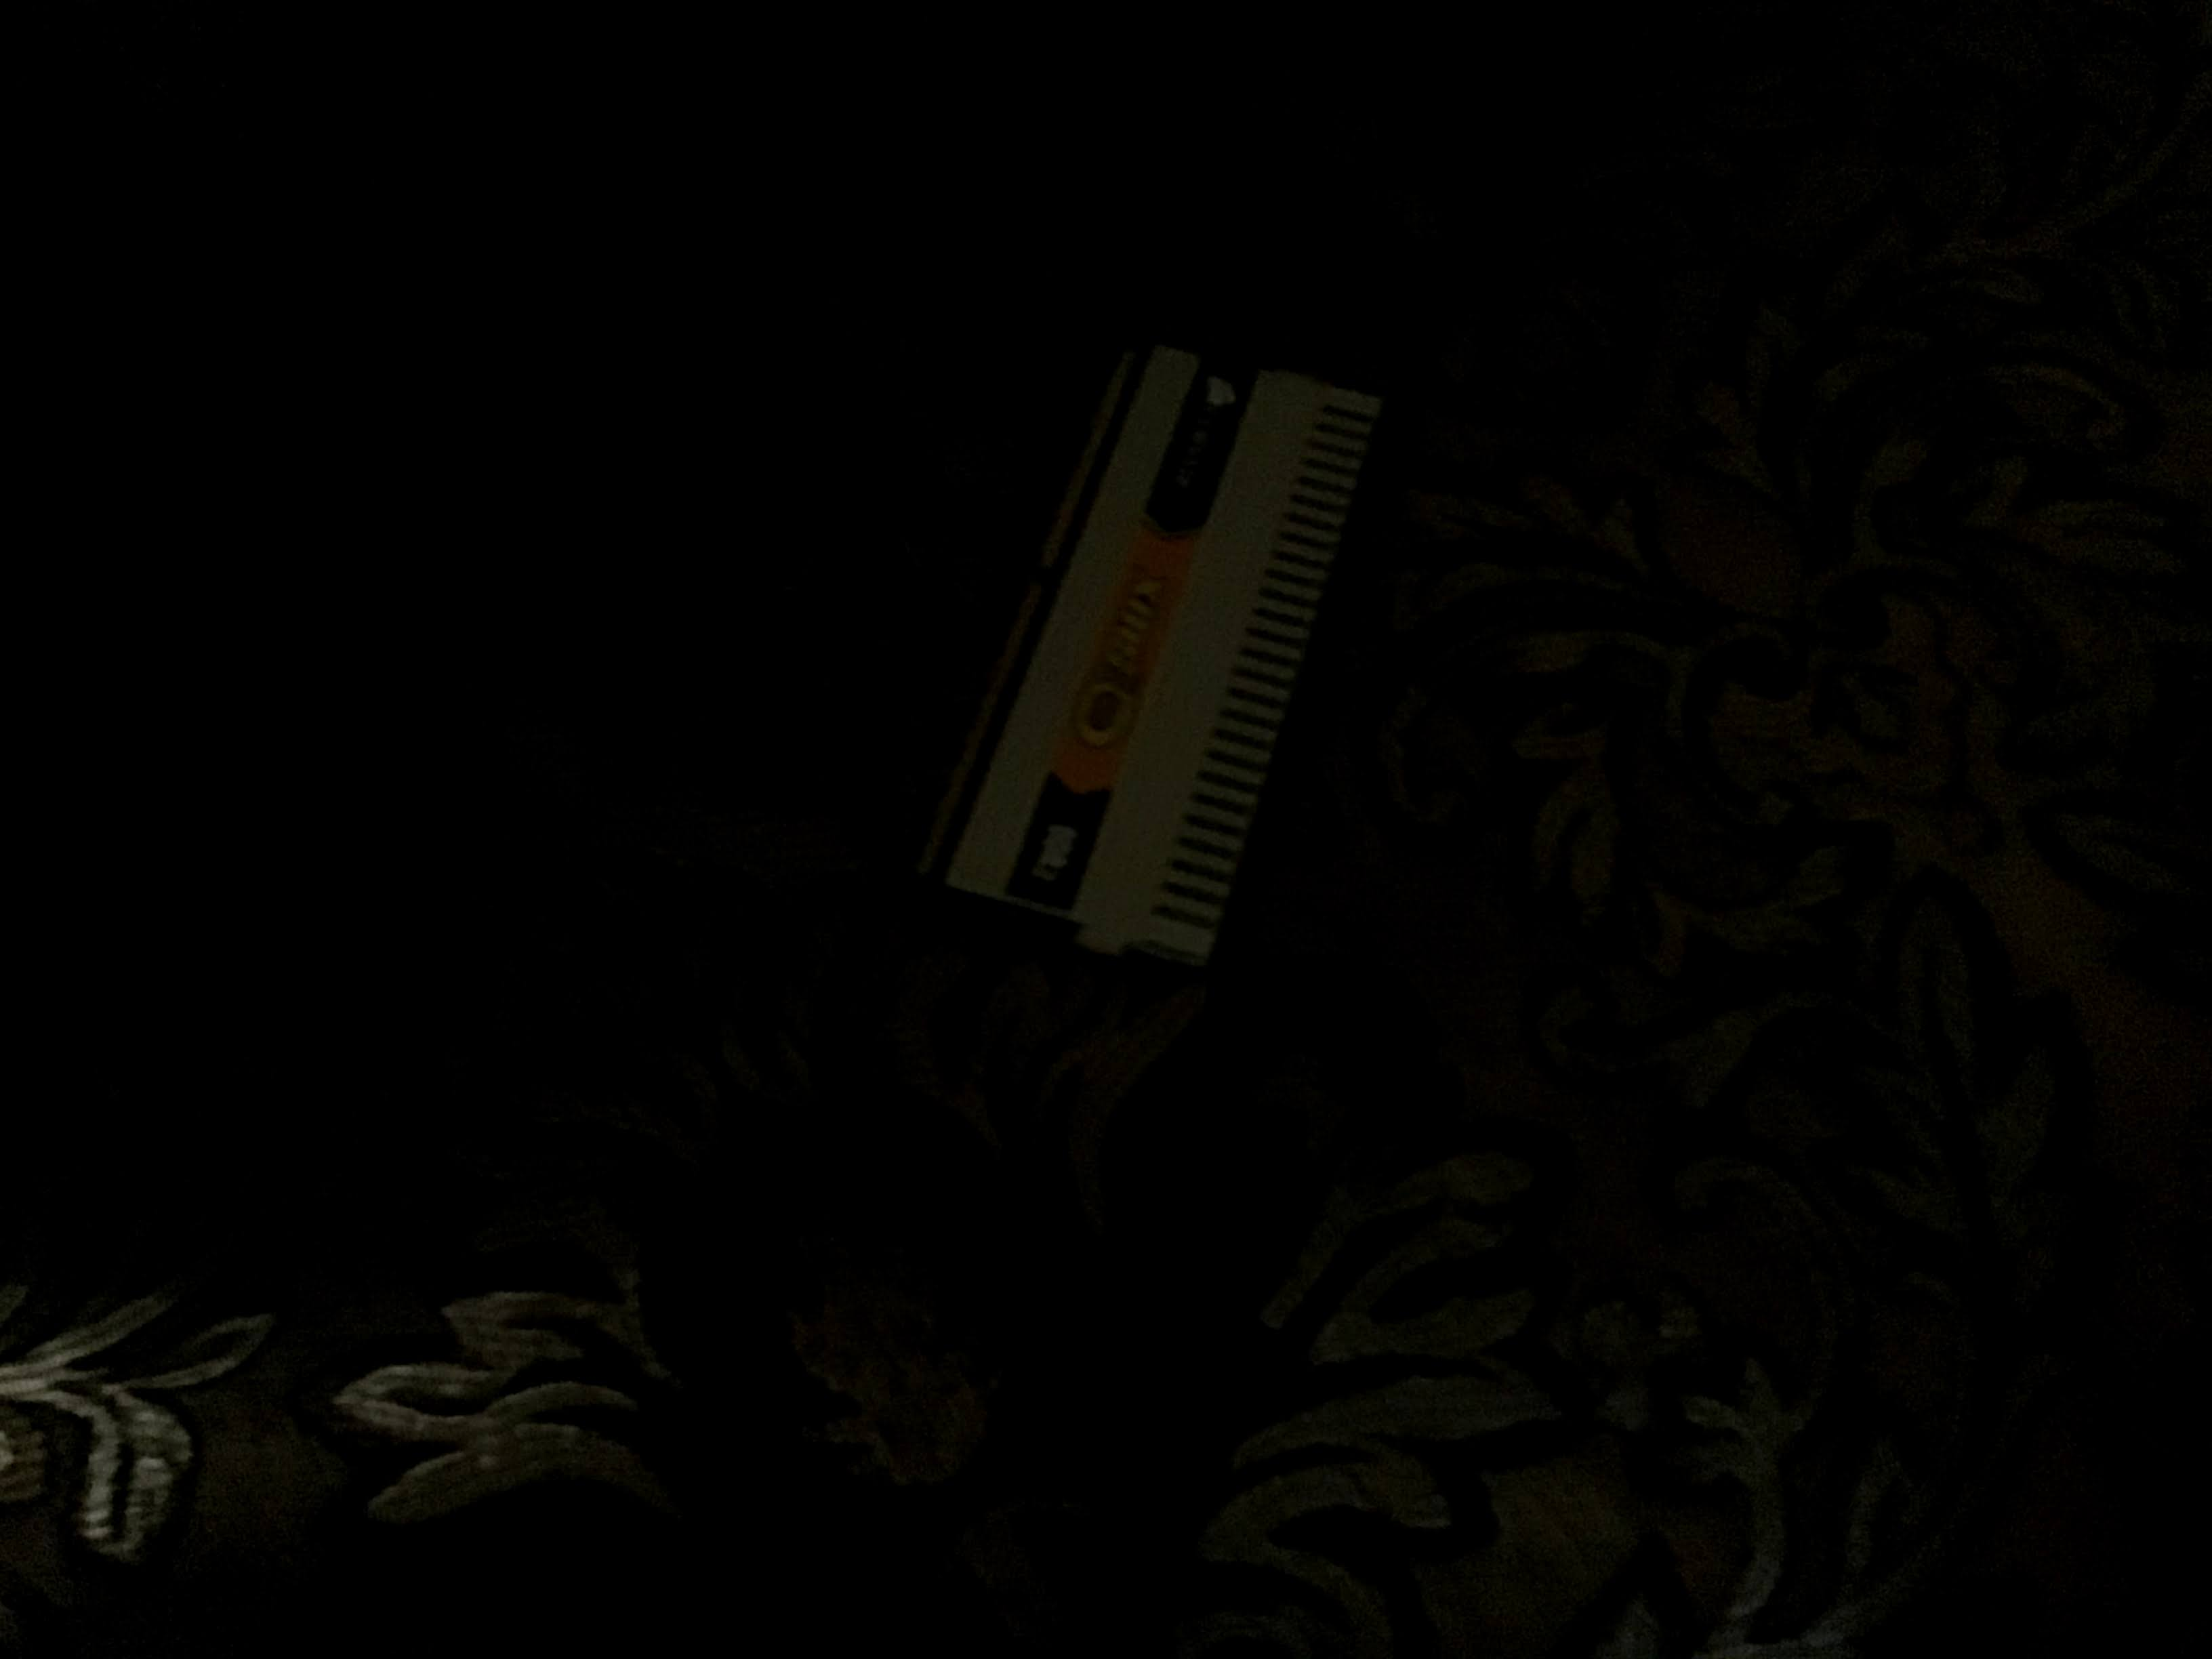Space-debris-medium: (939, 284, 1388, 1002)
